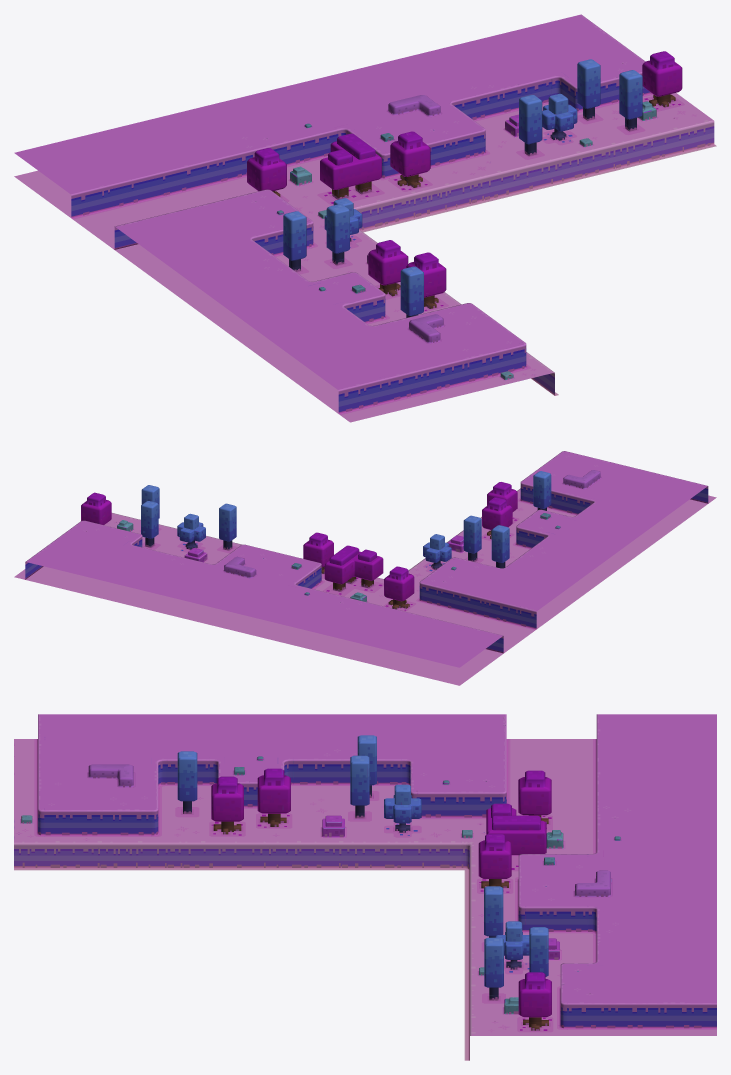
Rendered from C_forest2_out_RD.fbx.
3 renders of one model, top to bottom at view 1: azimuth 30°, elevation 25°; view 2: azimuth 150°, elevation 25°; view 3: azimuth 270°, elevation 25°, orthographic. The views are drawn at different scales.
Visible parts, largest first — view 1: C_forest2_out_RD.001; view 2: C_forest2_out_RD.001; view 3: C_forest2_out_RD.001.
Boxes of the visible parts, x1,y1,x2,y2 form: C_forest2_out_RD.001: (14, 14, 716, 422); C_forest2_out_RD.001: (14, 451, 716, 685); C_forest2_out_RD.001: (14, 714, 716, 1060).
Bounding box in the file's own units: 117 × 15.31 × 117.
Materials: 1 (1 with a texture image).
